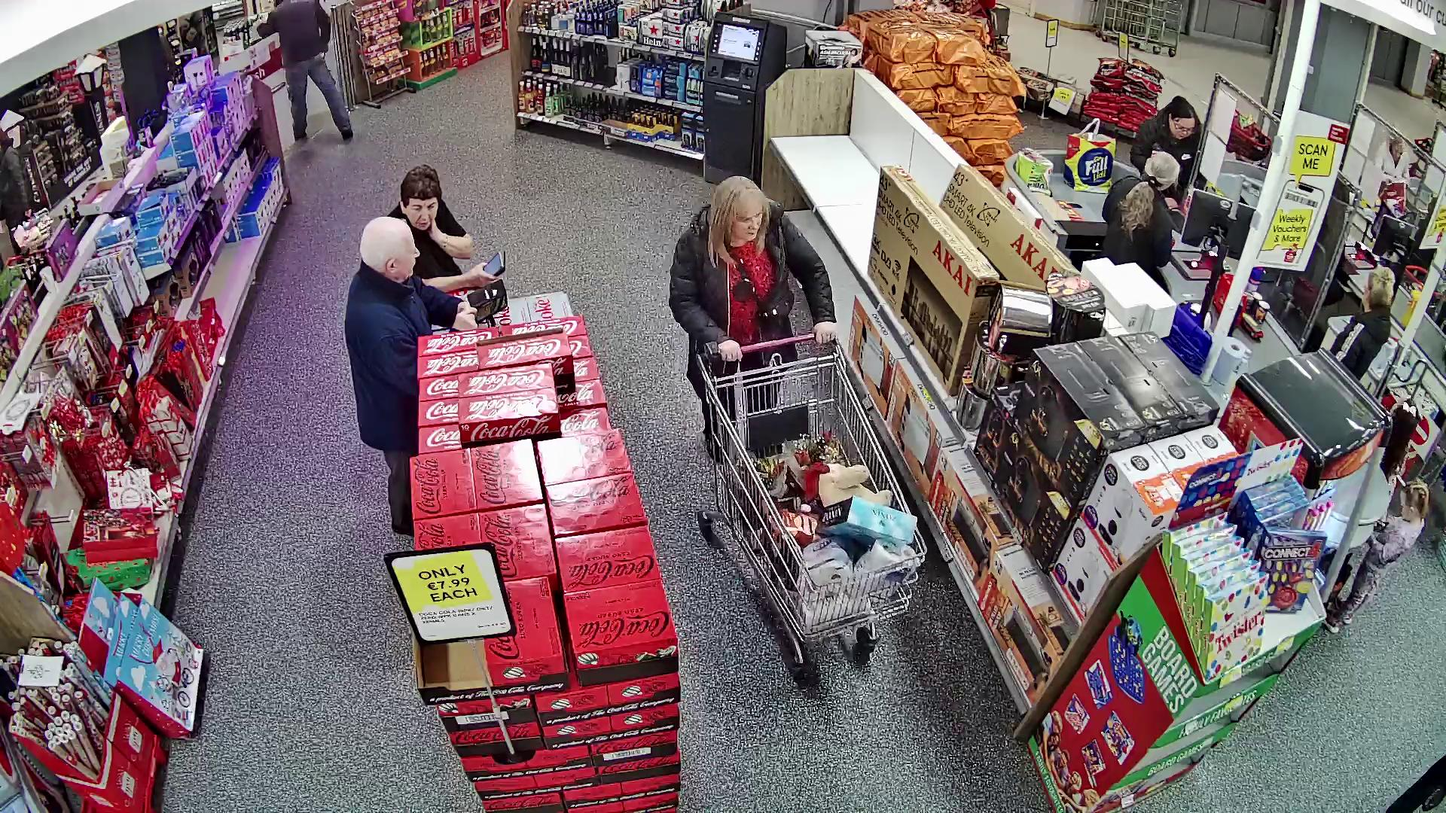backpack-or-handbag: (758, 280, 796, 326)
filled-trolly: (695, 330, 928, 682)
occupied-checkout-counter: (1035, 145, 1260, 300)
person: (670, 174, 836, 459)
person-with-basket-trolly-and-backpack-handbag: (669, 172, 929, 681)
